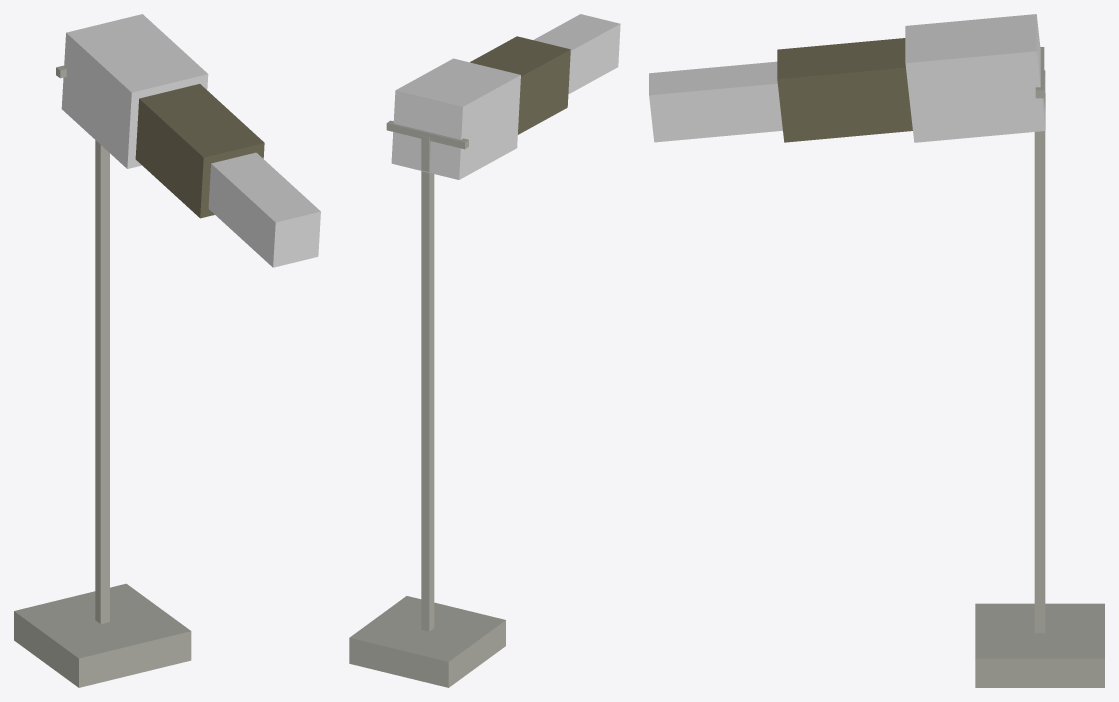
File: SM_MangaViento_v4_Base_LOD0.fbx
The picture shows the model from 3 angles, left to right: view 1: azimuth 30°, elevation 25°; view 2: azimuth 150°, elevation 25°; view 3: azimuth 270°, elevation 25°; orthographic projection. The views are drawn at different scales.
Visible parts, largest first — view 1: SM_ambiente_aerodromo_v4_LOD0; view 2: SM_ambiente_aerodromo_v4_LOD0; view 3: SM_ambiente_aerodromo_v4_LOD0.
Part boxes in pixels (bbox=[...]): SM_ambiente_aerodromo_v4_LOD0: bbox=[14, 14, 320, 687]; SM_ambiente_aerodromo_v4_LOD0: bbox=[349, 14, 620, 687]; SM_ambiente_aerodromo_v4_LOD0: bbox=[649, 14, 1104, 687].
Bounding box in the file's own units: 1.2 × 6.41 × 4.22.
